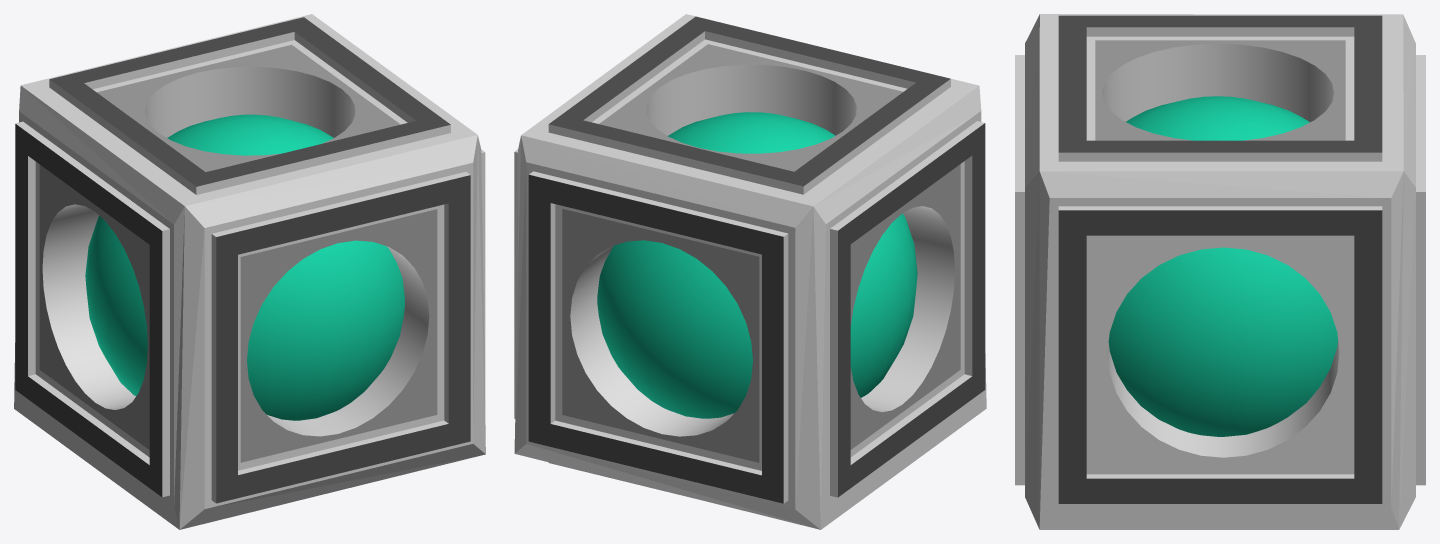
Rendered from TwoWayCube.fbx.
3 views of the same model, side by side, from view 1: azimuth 30°, elevation 25°; view 2: azimuth 150°, elevation 25°; view 3: azimuth 270°, elevation 25° (orthographic). The views are drawn at different scales.
Parts seen in each view (by area): view 1: Box001, Sphere001; view 2: Box001, Sphere001; view 3: Box001, Sphere001.
Boxes of the visible parts, bbox=[...] form: Box001: bbox=[14, 14, 485, 529]; Sphere001: bbox=[85, 114, 404, 420]; Box001: bbox=[514, 14, 986, 529]; Sphere001: bbox=[597, 112, 917, 418]; Box001: bbox=[1015, 14, 1425, 529]; Sphere001: bbox=[1108, 96, 1337, 436].
Size of the model in its own units: 36.8 by 36.8 by 36.8.
